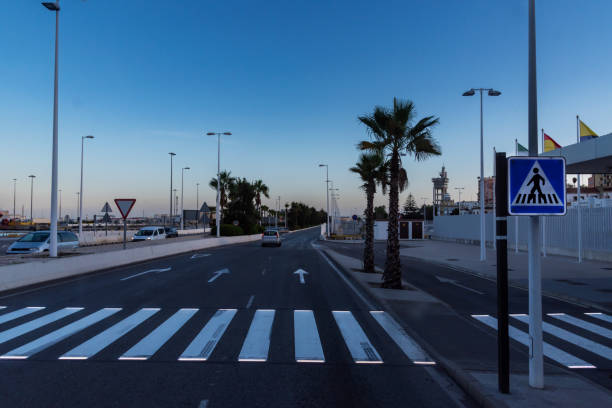yaya_gecidi: (507, 155, 568, 214)
